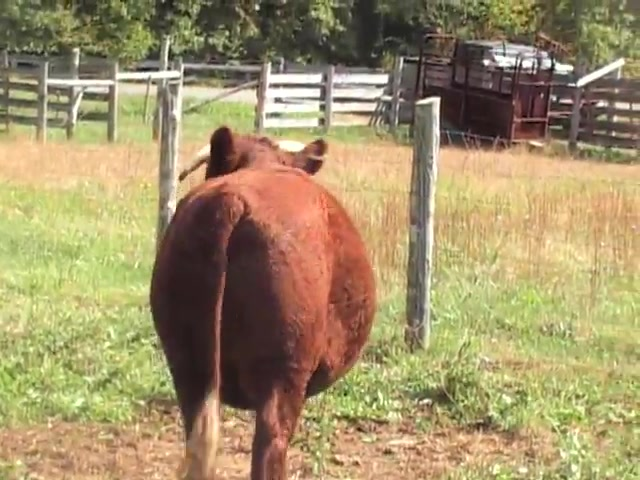cow: (152, 125, 379, 480)
